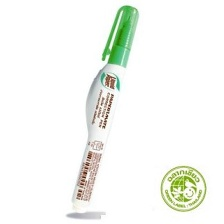correction_fluid: (68, 3, 141, 217)
